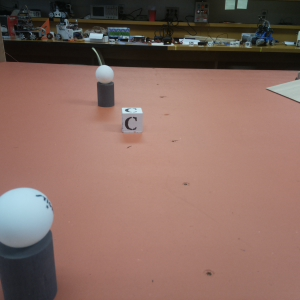blockC: (122, 106, 141, 130)
obstacle: (1, 184, 57, 295), (95, 64, 114, 107)
